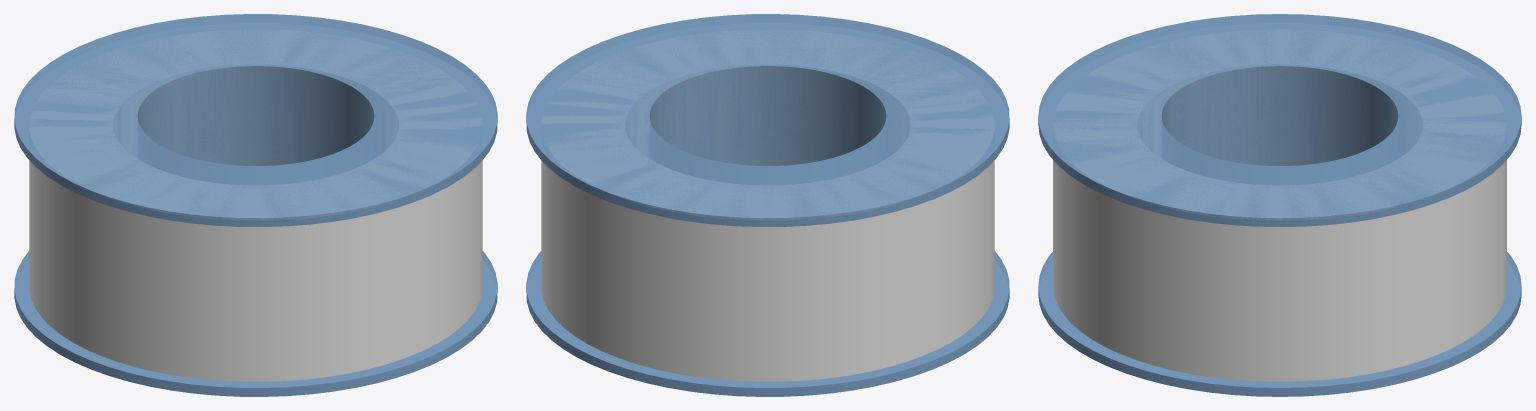
Rendered from fita_veda_rosca_18mm.dae.
3 renders of one model, left to right at view 1: azimuth 30°, elevation 25°; view 2: azimuth 150°, elevation 25°; view 3: azimuth 270°, elevation 25°, orthographic.
Parts seen in each view (by area): view 1: Fita veda-rosca 18mm (×2); view 2: Fita veda-rosca 18mm (×2); view 3: Fita veda-rosca 18mm (×2).
Boxes of the visible parts, x1,y1,x2,y2 form: Fita veda-rosca 18mm (×2): (14, 14, 497, 396); Fita veda-rosca 18mm (×2): (526, 14, 1009, 396); Fita veda-rosca 18mm (×2): (1038, 14, 1521, 396).
Size of the model in its own units: 49 by 49 by 20.
